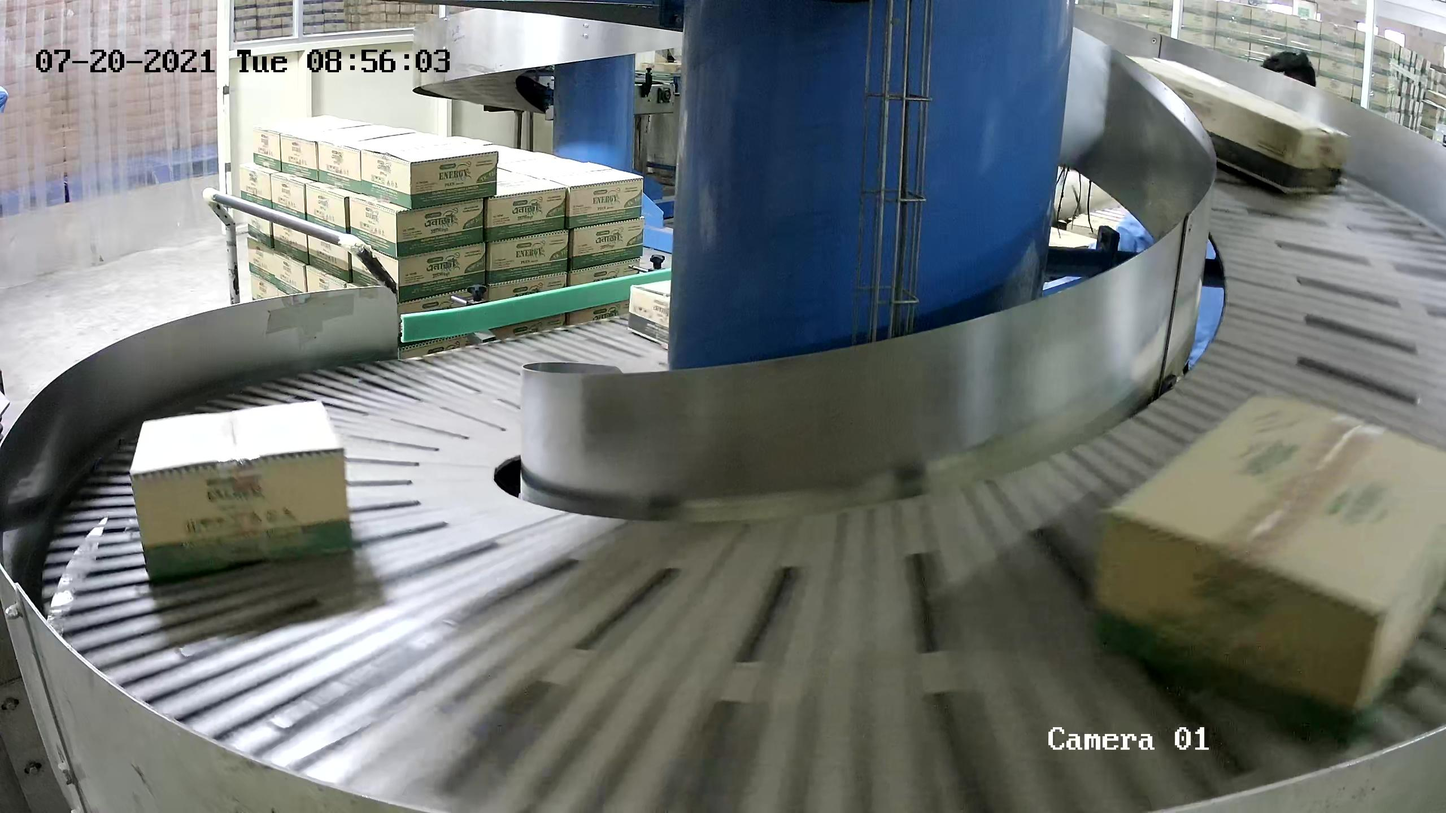Box: (1085, 386, 1446, 752), (127, 398, 358, 583), (1104, 53, 1359, 197), (628, 256, 798, 357)
